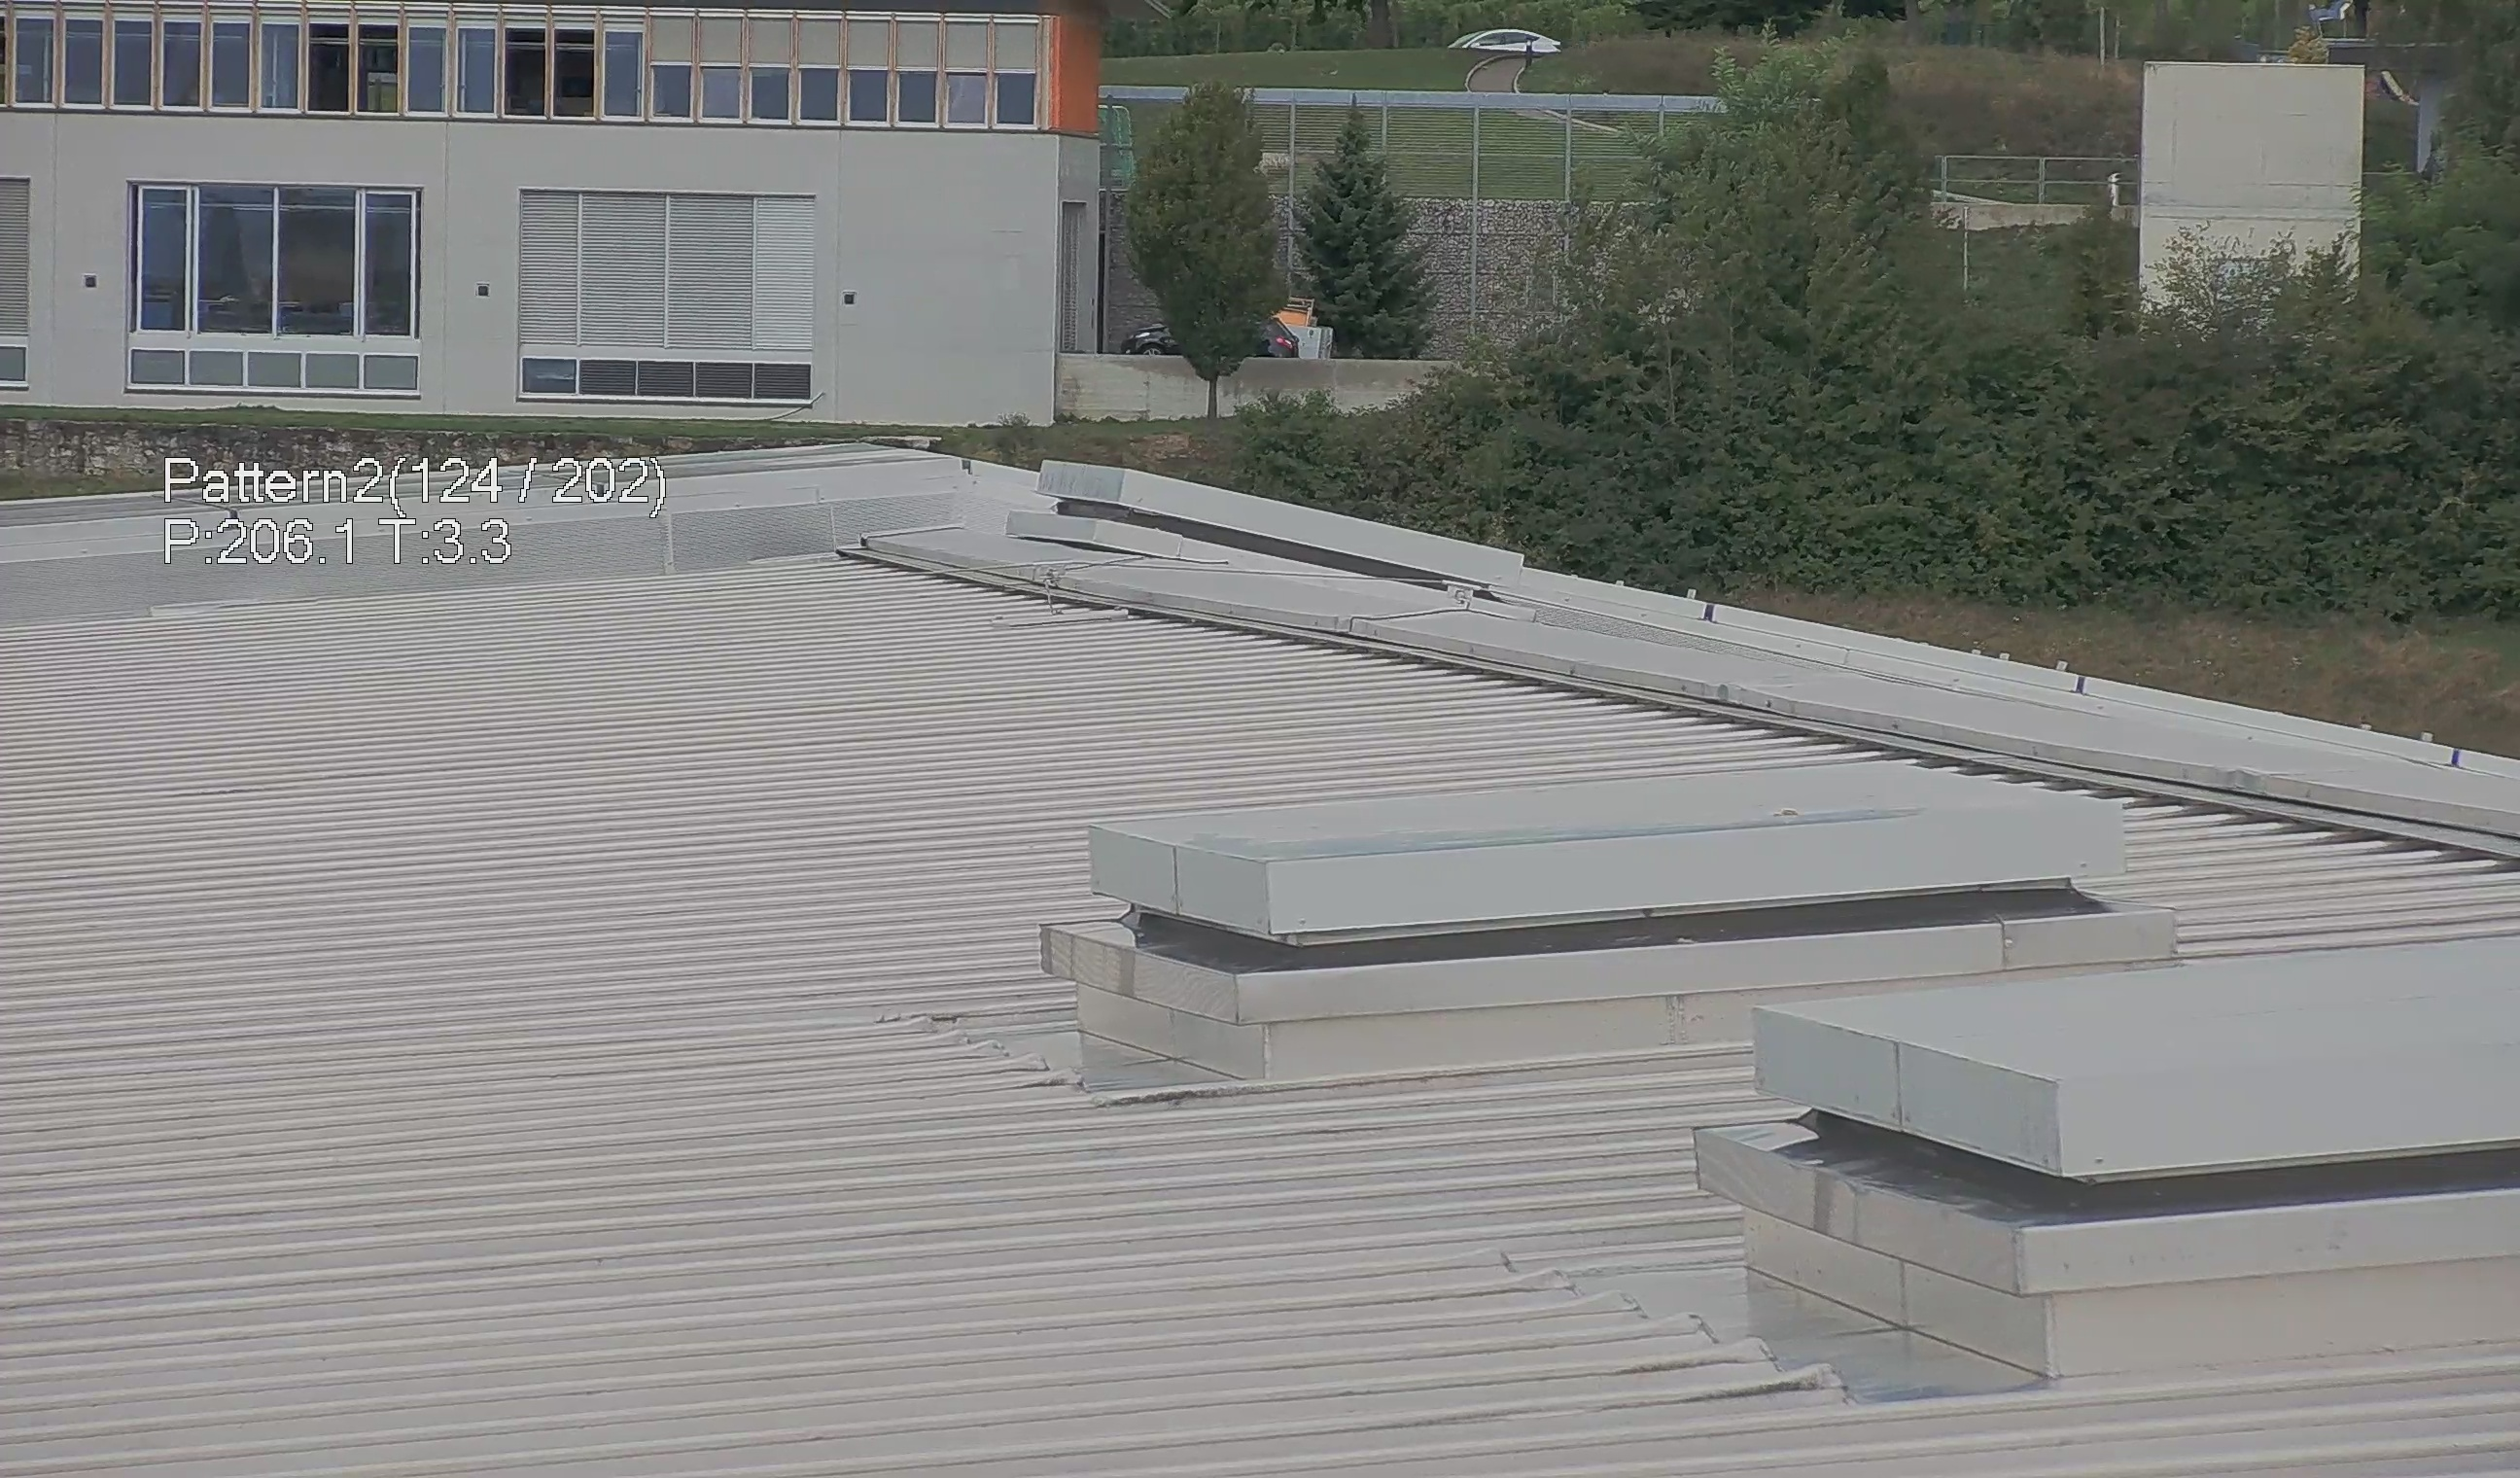Other: (1453, 18, 1583, 93)
